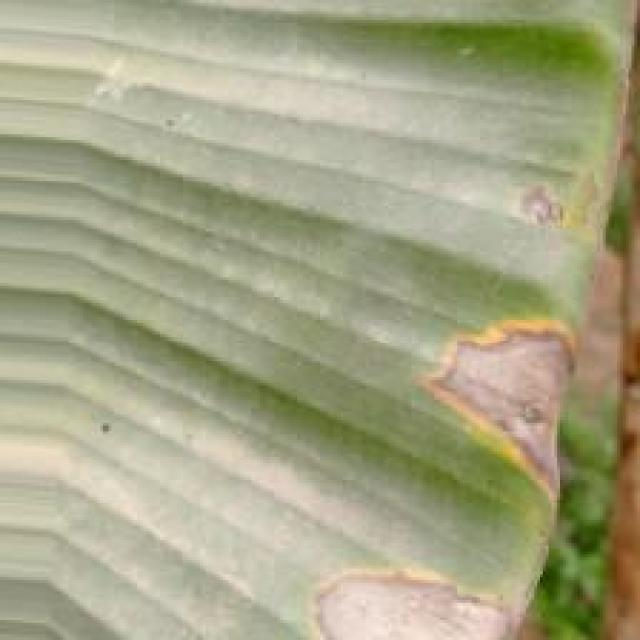Bacterial_spot: (411, 278, 591, 507), (253, 543, 523, 640), (498, 174, 598, 253)
